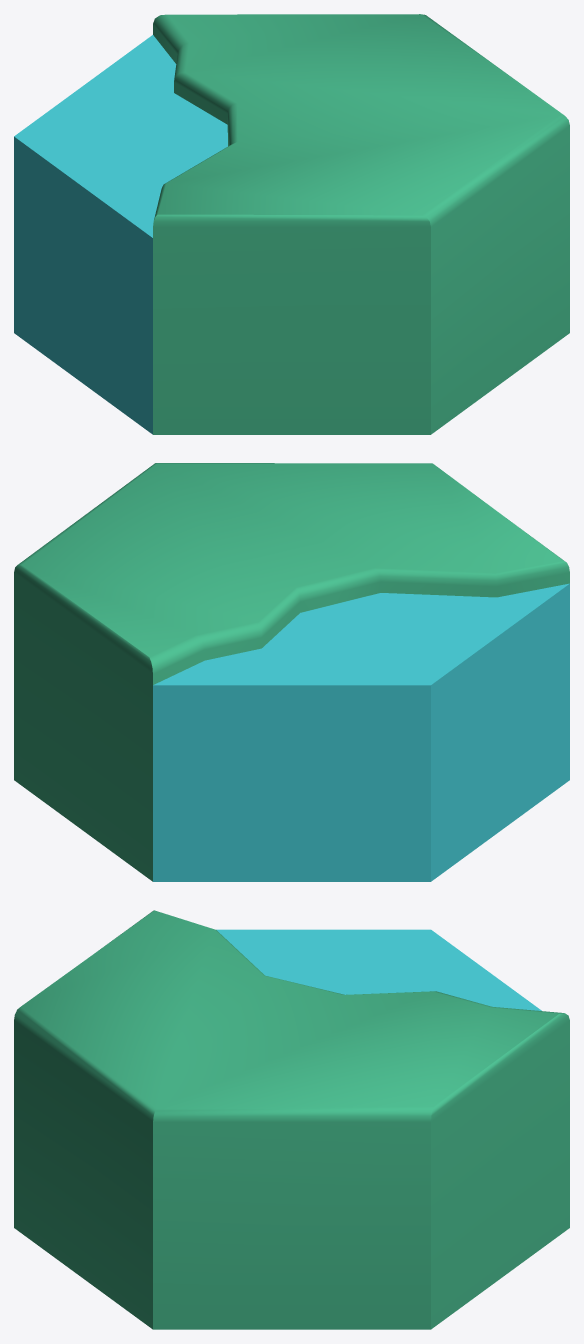
File: hex_forest_waterD.glb
3 views of the same model, one above another, from view 1: azimuth 30°, elevation 25°; view 2: azimuth 150°, elevation 25°; view 3: azimuth 270°, elevation 25° (orthographic).
Visible parts, largest first — view 1: hex_forest_waterD; view 2: hex_forest_waterD; view 3: hex_forest_waterD.
Boxes of the visible parts, bbox=[...] form: hex_forest_waterD: bbox=[14, 14, 569, 434]; hex_forest_waterD: bbox=[14, 463, 569, 881]; hex_forest_waterD: bbox=[14, 910, 569, 1329].
Size of the model in its own units: 3.82 by 1.91 by 4.41.
